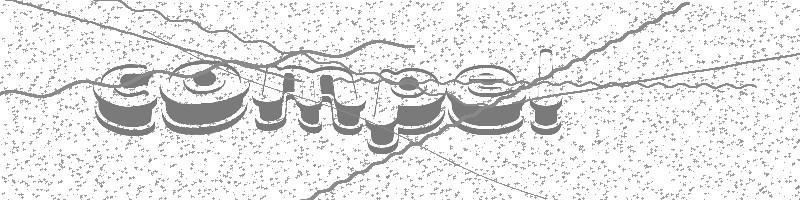c: (84, 61, 161, 137)
e: (446, 61, 528, 135)
l: (528, 48, 571, 137)
m: (251, 61, 367, 138)
o: (155, 55, 251, 135)
p: (365, 65, 451, 154)
